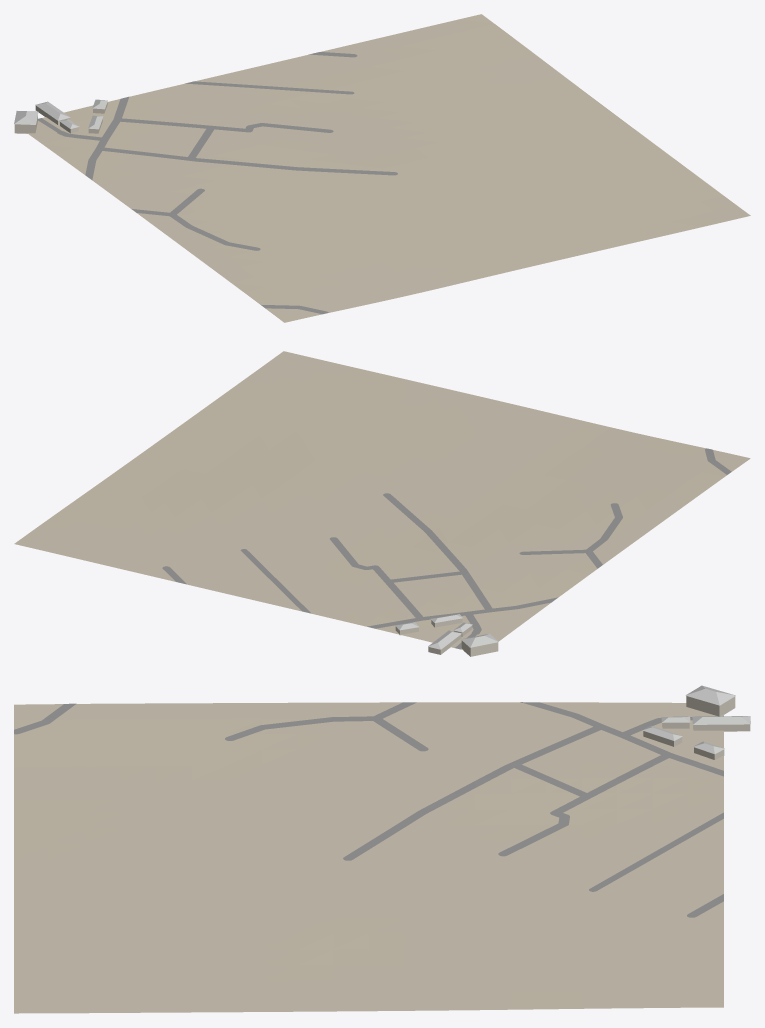
Rendered from bolak_2_9.glb.
3 views of the same model, one above another, from view 1: azimuth 30°, elevation 25°; view 2: azimuth 150°, elevation 25°; view 3: azimuth 270°, elevation 25° (orthographic). The views are drawn at different scales.
Parts seen in each view (by area): view 1: Yer_Tuproq-col, Yol_Mahalla-col, Tom_Shifer, Devor_Suvoq-col; view 2: Yer_Tuproq-col, Yol_Mahalla-col, Tom_Shifer, Devor_Suvoq-col; view 3: Yer_Tuproq-col, Yol_Mahalla-col, Tom_Shifer, Devor_Suvoq-col.
Part boxes in pixels (box(x1,y1,x2,y2)): Yer_Tuproq-col: box(27, 14, 750, 322); Yol_Mahalla-col: box(38, 52, 397, 314); Tom_Shifer: box(14, 99, 107, 129); Devor_Suvoq-col: box(14, 102, 107, 133); Yer_Tuproq-col: box(14, 351, 750, 654); Yol_Mahalla-col: box(162, 448, 731, 649); Tom_Shifer: box(395, 614, 498, 649); Devor_Suvoq-col: box(395, 618, 498, 656); Yer_Tuproq-col: box(14, 702, 723, 1013); Yol_Mahalla-col: box(14, 702, 723, 917); Tom_Shifer: box(642, 685, 750, 754); Devor_Suvoq-col: box(643, 696, 750, 759).
Size of what is drawn, in the model's own units: 408 by 16.95 by 415.
